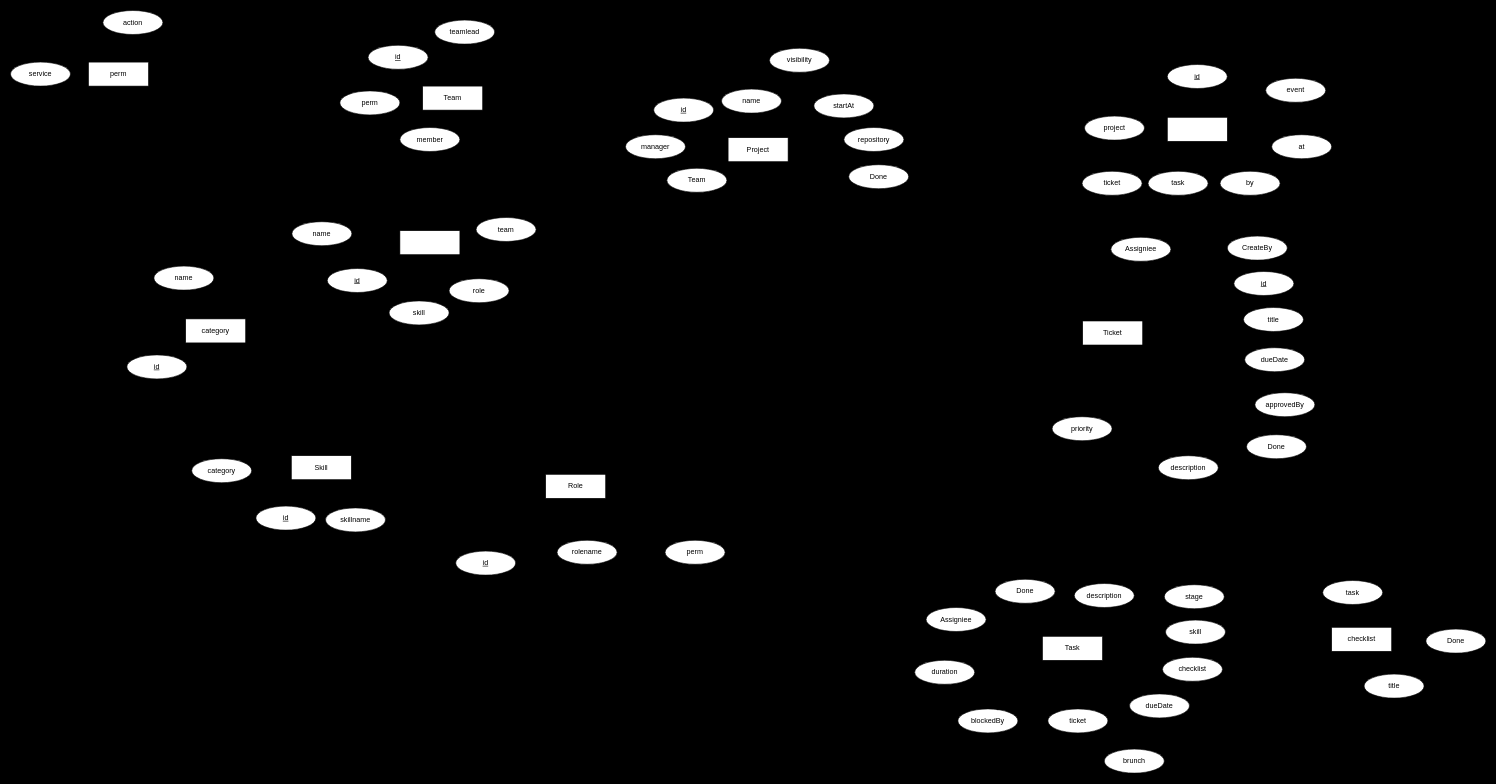
This 1496x784 diagram has some shape labels left out. The shapes that lost their labels are listed below. From the top down, each one's centre as x and y in pixels, then its label:
the point at 1197,129: Task log
the point at 429,242: User
